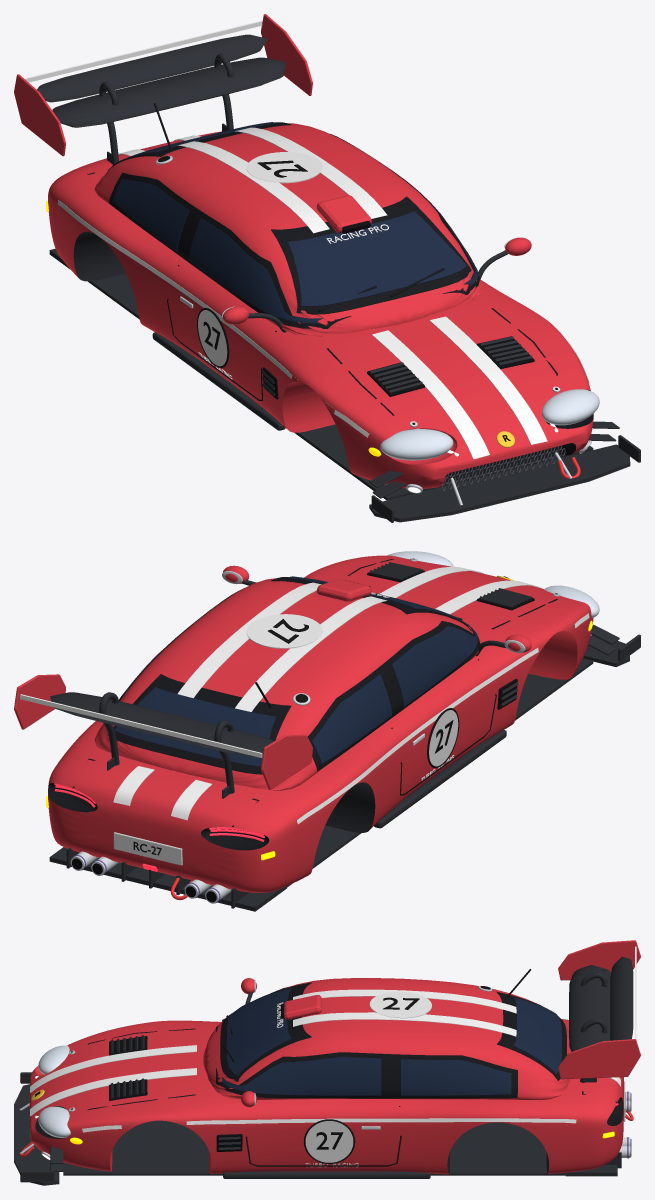
Rendered from car.glb.
3 renders of one model, top to bottom at view 1: azimuth 30°, elevation 25°; view 2: azimuth 150°, elevation 25°; view 3: azimuth 270°, elevation 25°, orthographic. The views are drawn at different scales.
Parts seen in each view (by area): view 1: CarBody, WingBlade, Splitter, WingMount; view 2: CarBody, WingBlade, Splitter, WingMount; view 3: CarBody, WingBlade, Splitter, WingMount.
Boxes of the visible parts, x1,y1,x2,y2 form: CarBody: (46, 103, 599, 500); WingBlade: (14, 14, 312, 156); Splitter: (369, 421, 640, 522); WingMount: (99, 53, 234, 165); CarBody: (46, 551, 599, 911); WingBlade: (14, 674, 312, 789); Splitter: (583, 624, 640, 666); WingMount: (99, 692, 234, 798); CarBody: (20, 969, 633, 1178); WingBlade: (558, 940, 640, 1079); Splitter: (14, 1072, 63, 1185); WingMount: (580, 972, 607, 1082).
Size of the model in its own units: 2.24 by 1.24 by 4.83.
